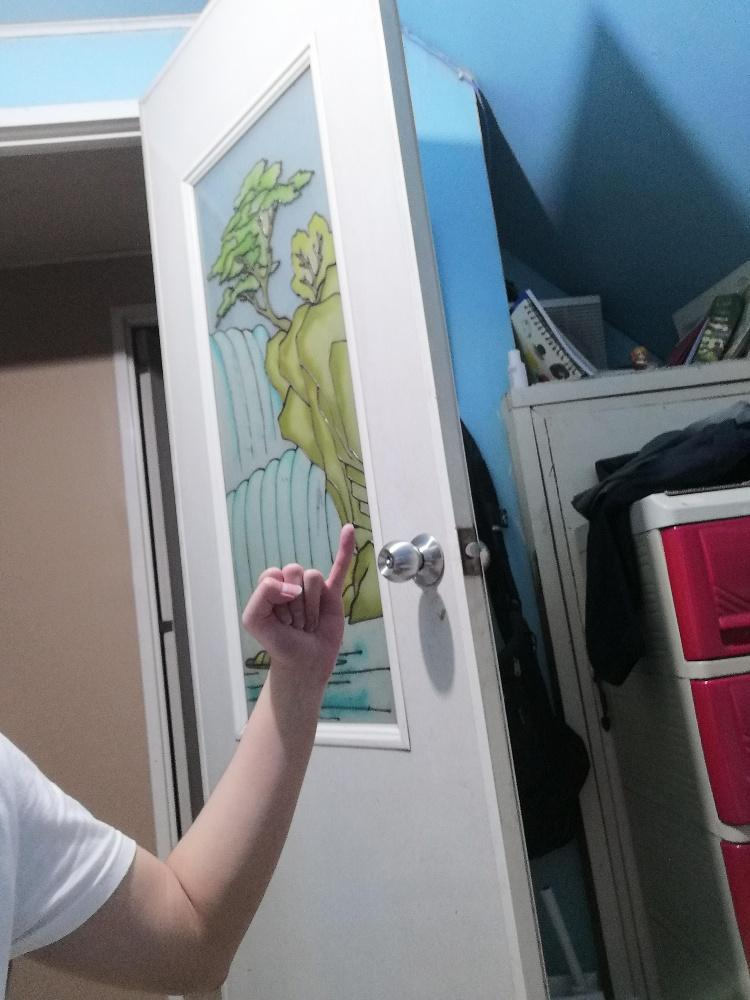i: (240, 519, 354, 669)
